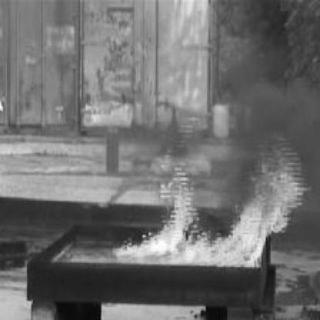Smoke: (234, 49, 314, 140)
